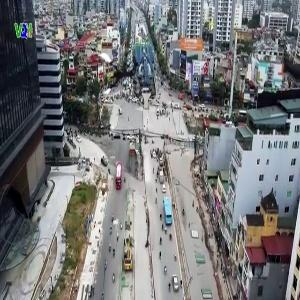drone: (95, 52, 144, 101)
